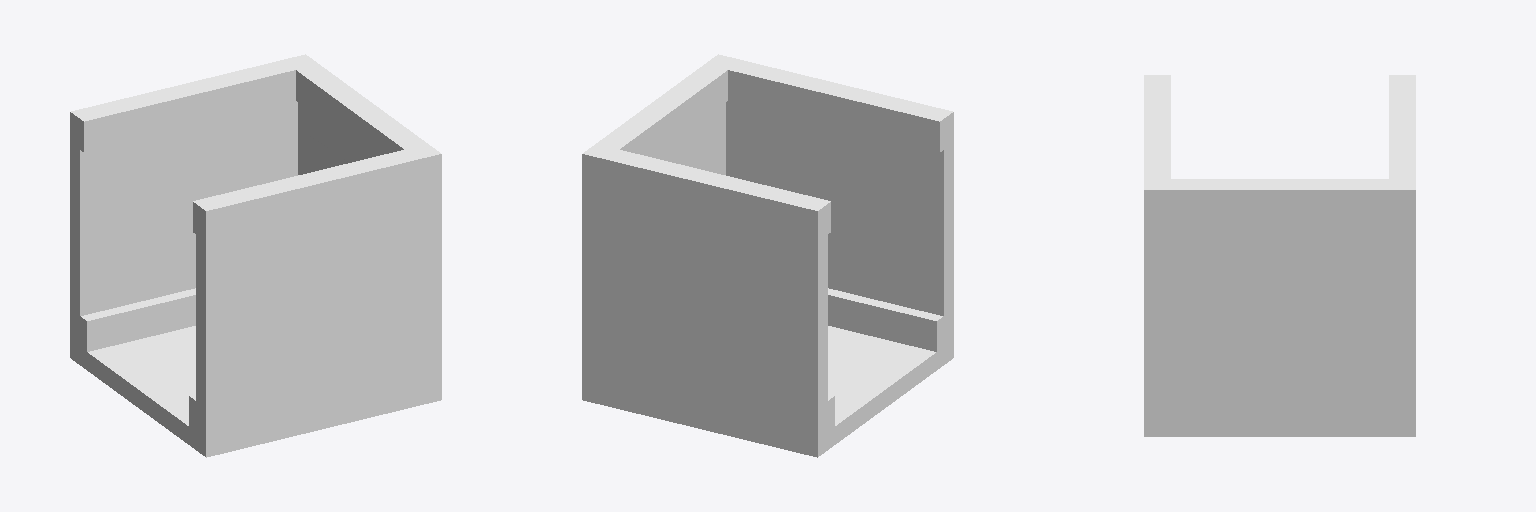
File: WallEndVoxel.obj
3 views of the same model, side by side, from view 1: azimuth 30°, elevation 25°; view 2: azimuth 150°, elevation 25°; view 3: azimuth 270°, elevation 25° (orthographic).
Parts seen in each view (by area): view 1: object 1; view 2: object 1; view 3: object 1.
Boxes of the visible parts, <box> form: object 1: <box>70,54,441,457</box>; object 1: <box>582,54,953,457</box>; object 1: <box>1144,75,1415,436</box>.
Size of the model in its own units: 4 by 4 by 4.